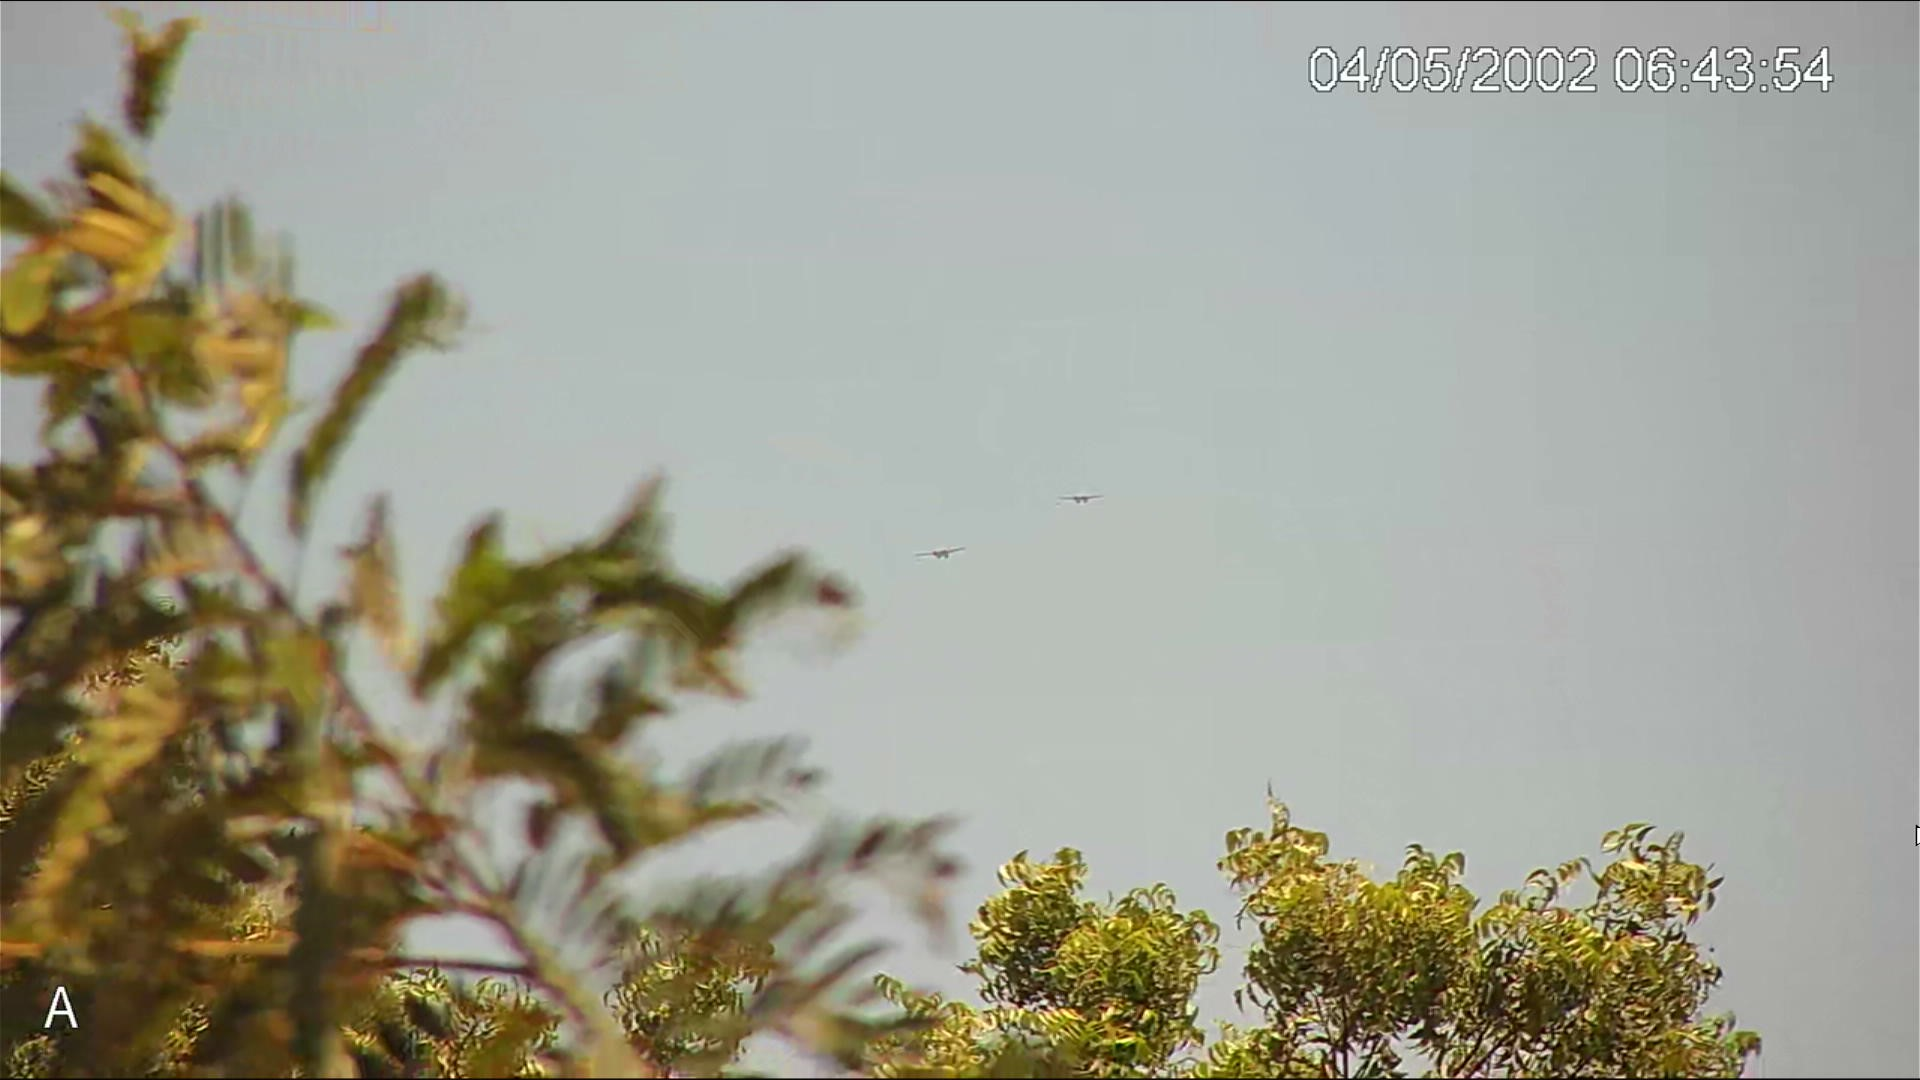SU_30: (1059, 489, 1112, 502), (914, 546, 965, 558)
